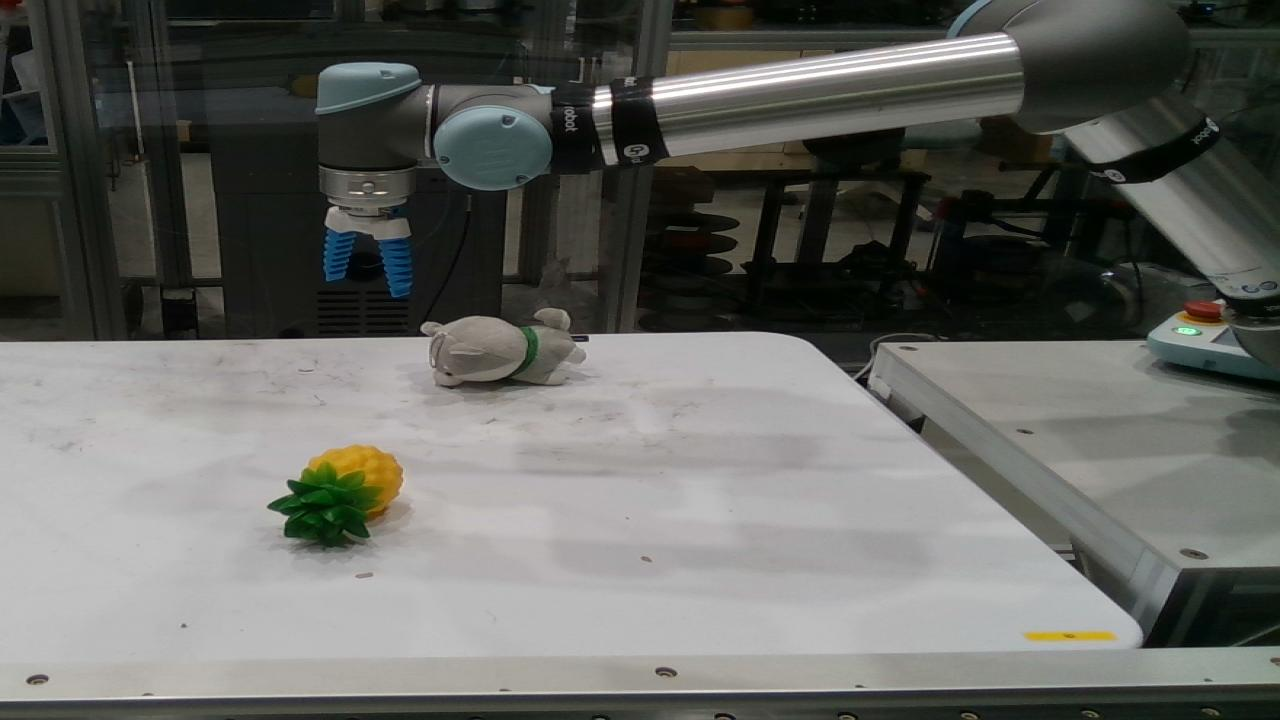UR5: (318, 0, 1279, 374)
gripper_left: (324, 228, 357, 281)
gripper_right: (378, 236, 414, 298)
target: (265, 444, 405, 547), (421, 308, 587, 388)
